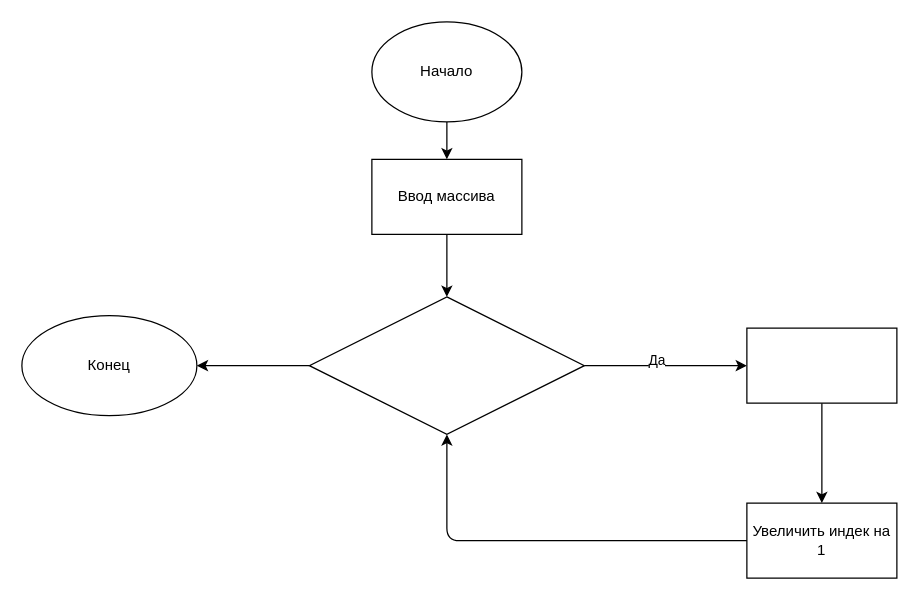
This 919x600 diagram has some shape labels left out. Here are the shapes that lost their labels. From the top down, the box of each, then its label:
(308, 296, 584, 434): Индекс текущего элемента < длины массива?
(746, 327, 897, 403): Вывести элемент
